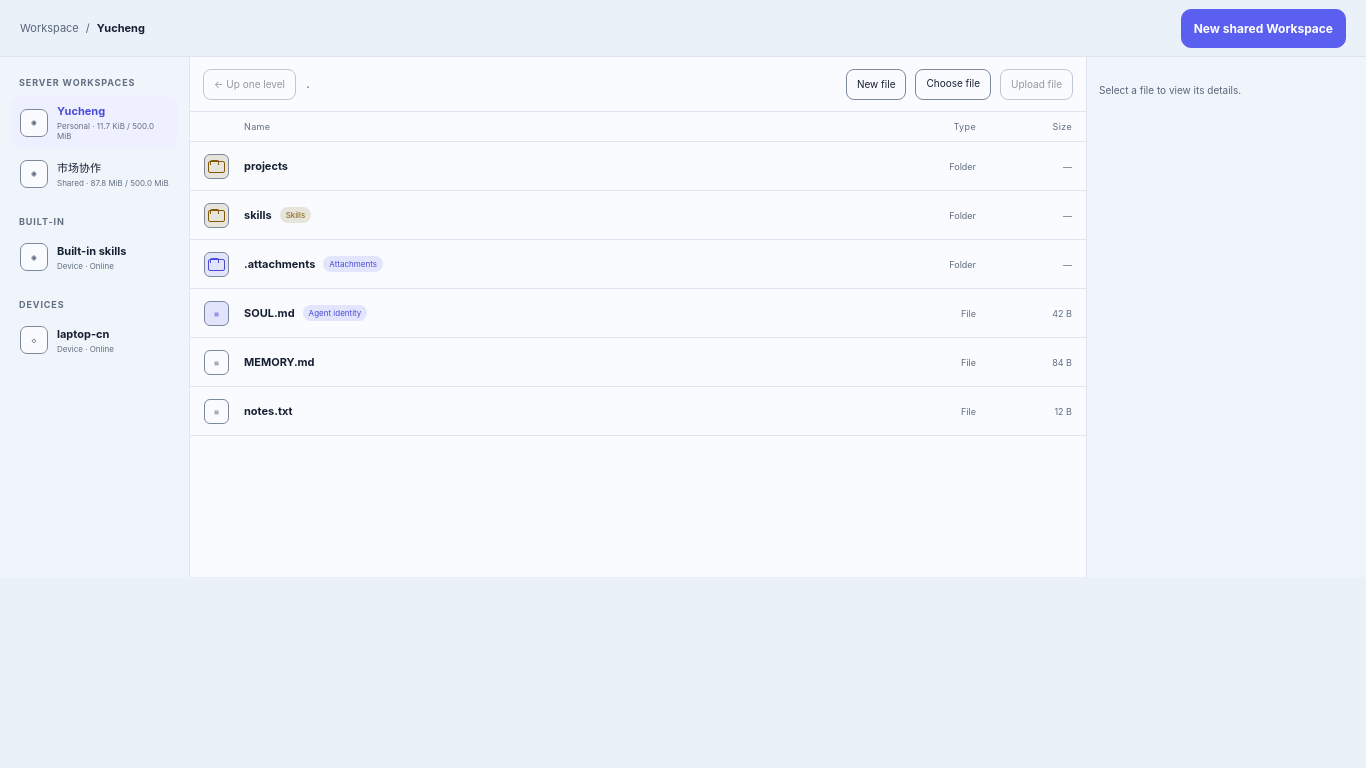
Test: WorkspacePage › ignores a stale file-read failure after navigating into a directory
This screenshot has width=1366, height=768.
What coordinates should you click on to do the following:
click the button "▤ notes.txt File 12 B"
I would click on:
 (268, 411)
Its box is [190,387,1086,435].
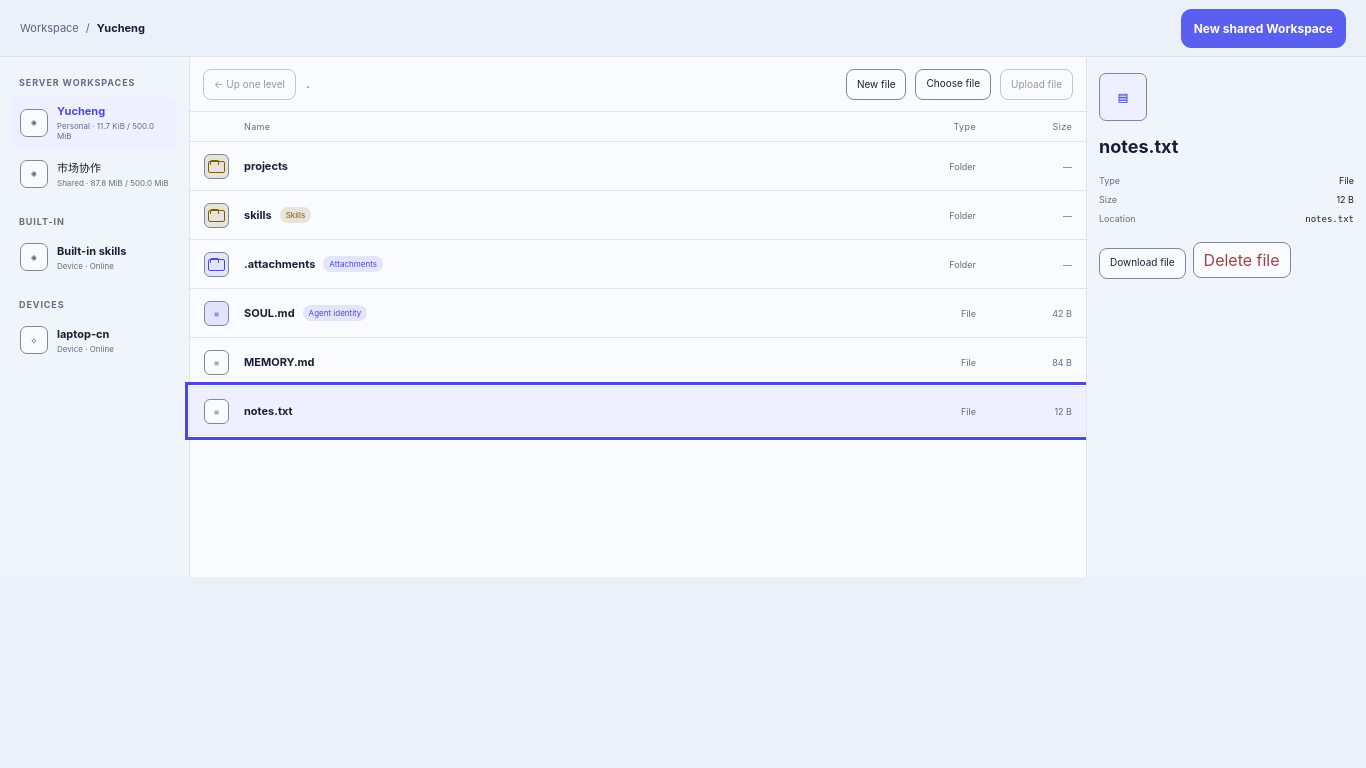
What coordinates should you click on to do the following:
click the button "▰ projects Folder —"
I would click on:
 (266, 166)
Its box is [190,142,1086,190].
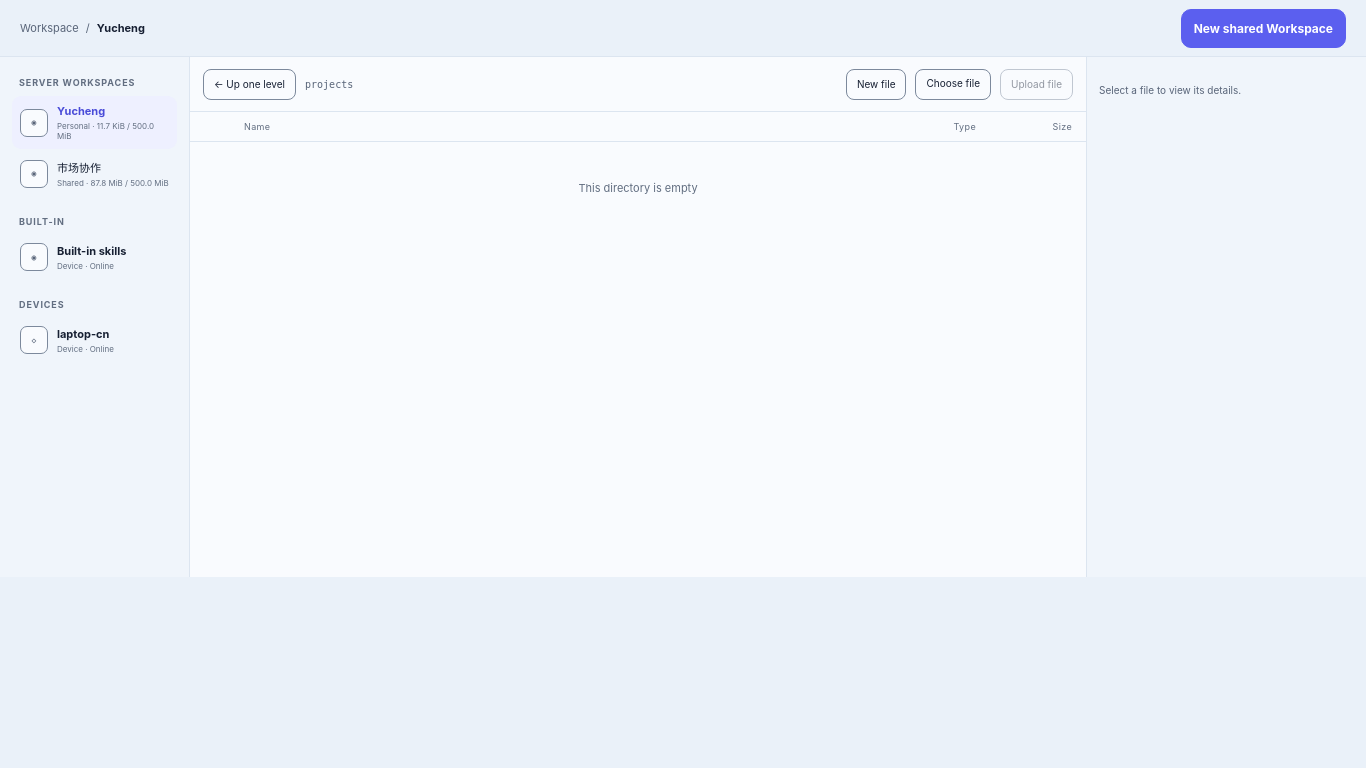
Expected: the text "This directory is empty" is shown, [578,181,698,195]
